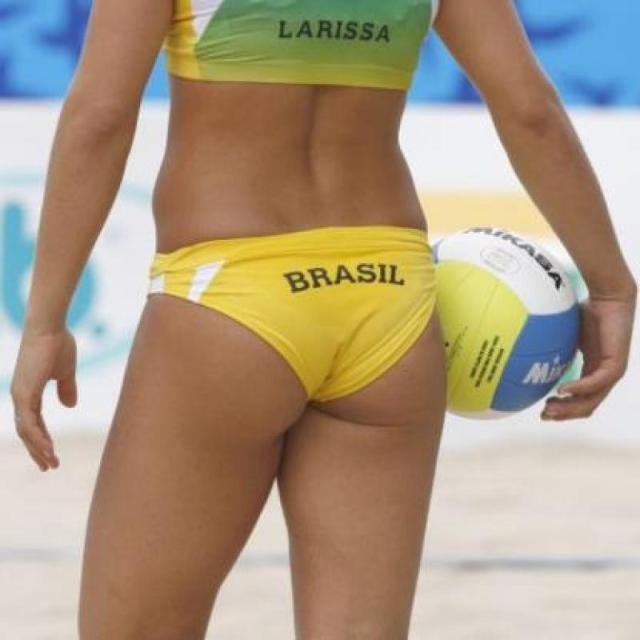volleyball: (428, 224, 582, 421)
